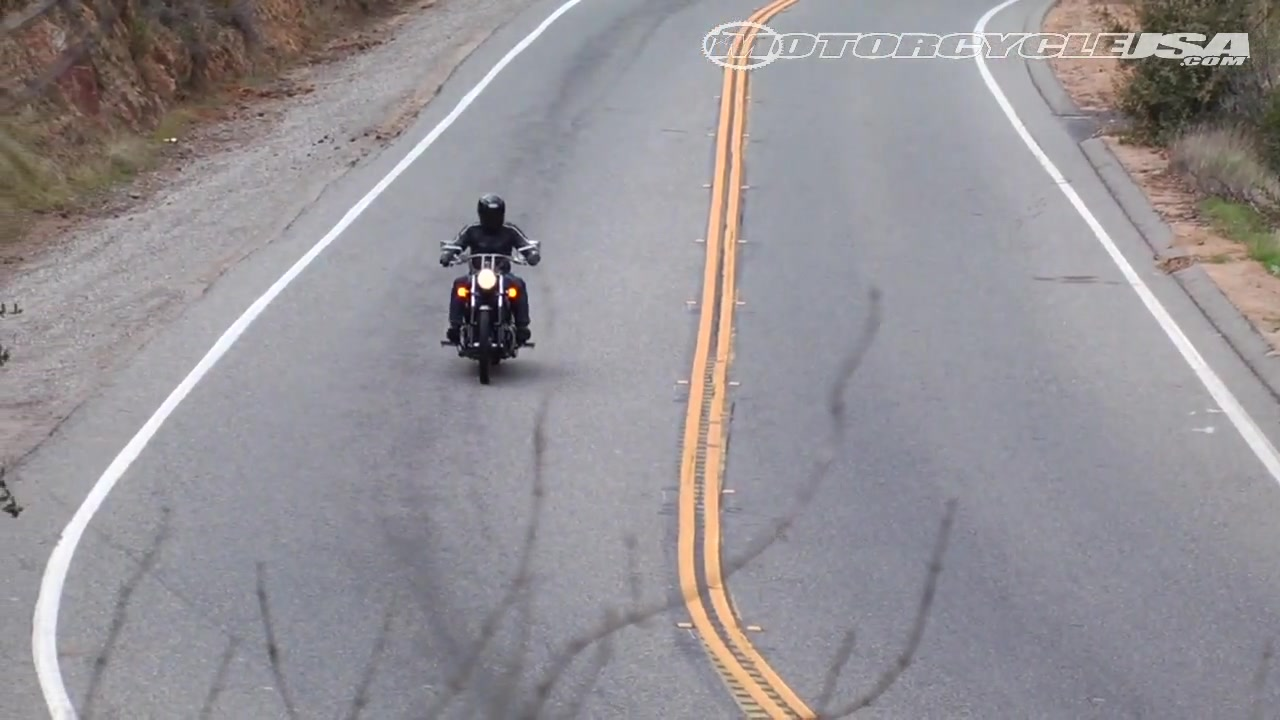motorbike: (433, 241, 539, 385)
